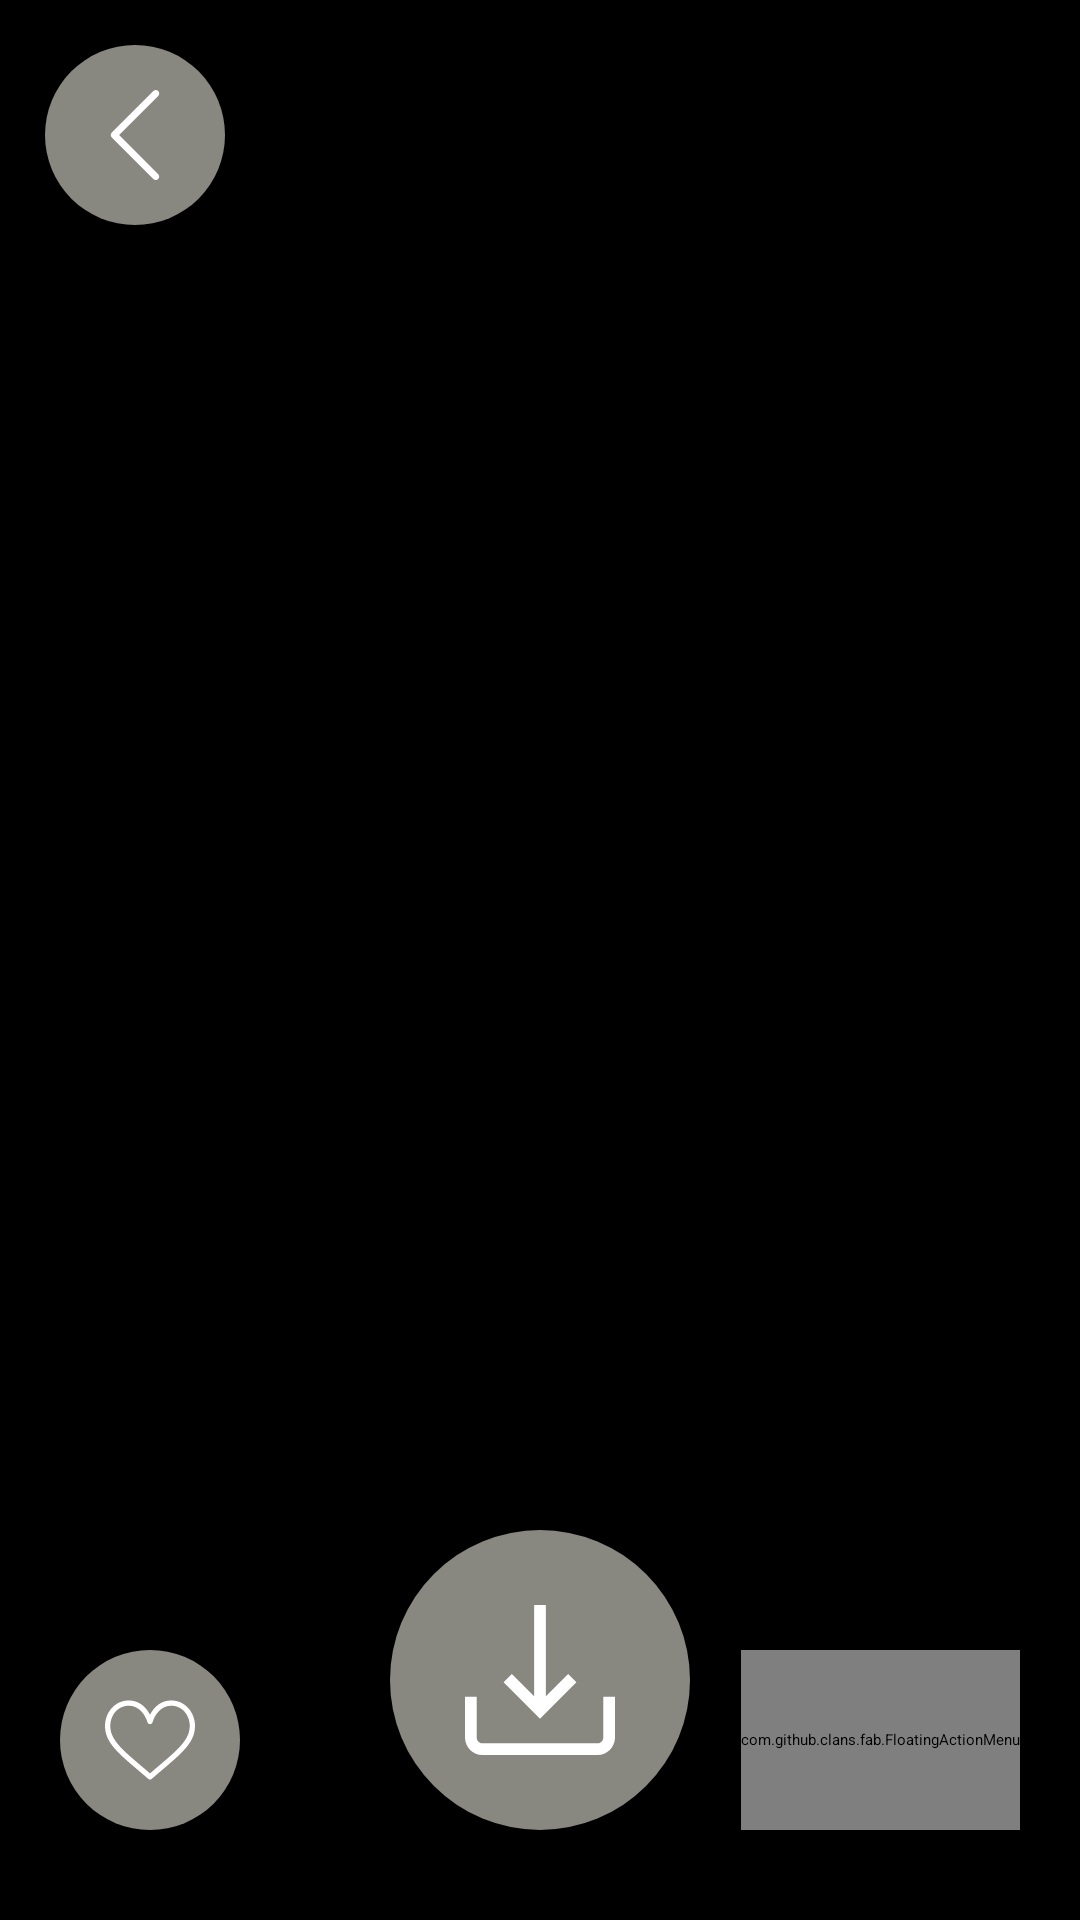

Icon bounding boxes for this 1080x1920 phone screenshot, format (x1, y1, x2, y2):
detail back: (111, 90, 159, 180)
detail download: (465, 1605, 615, 1755)
detail unfavorite: (105, 1700, 195, 1780)
